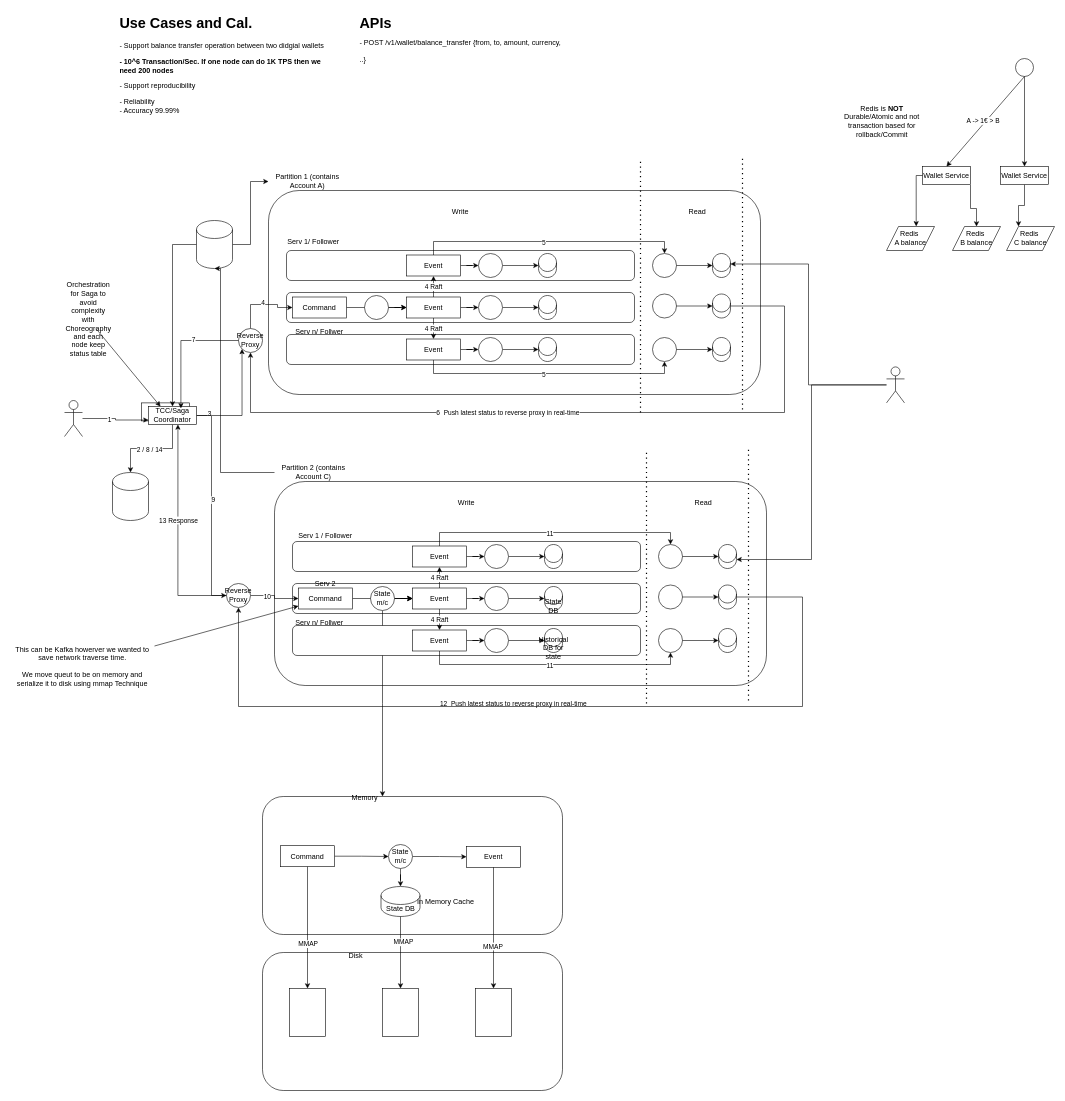
Image size: 1065x1101. Some labels were removed from this diagram. The shapes that lost their labels are listed below. From the top down, each one's centre as x and y in pixels, then its label:
point 1024,67: Transfer Command
point 214,244: Federation Info ZooKeeper
point 895,384: Query
point 73,418: Actor
point 130,496: Phase Status Table
point 307,1012: Command File
point 400,1012: StateFile
point 493,1012: Event File
